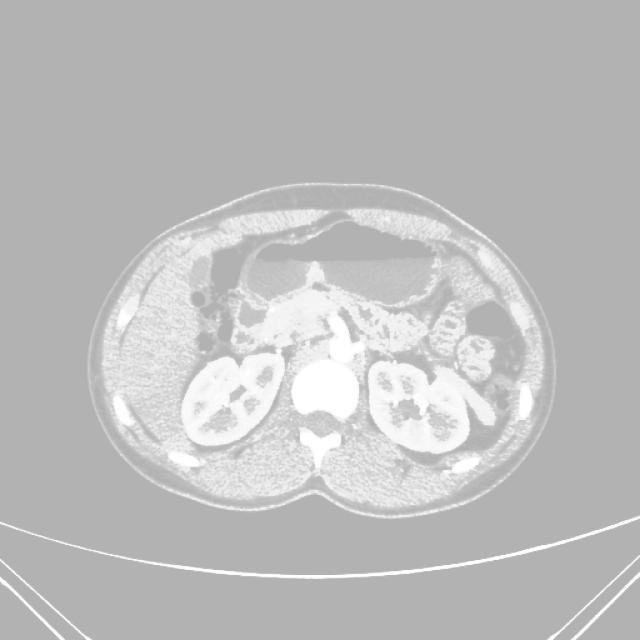NORMAL: (77, 159, 586, 534)
